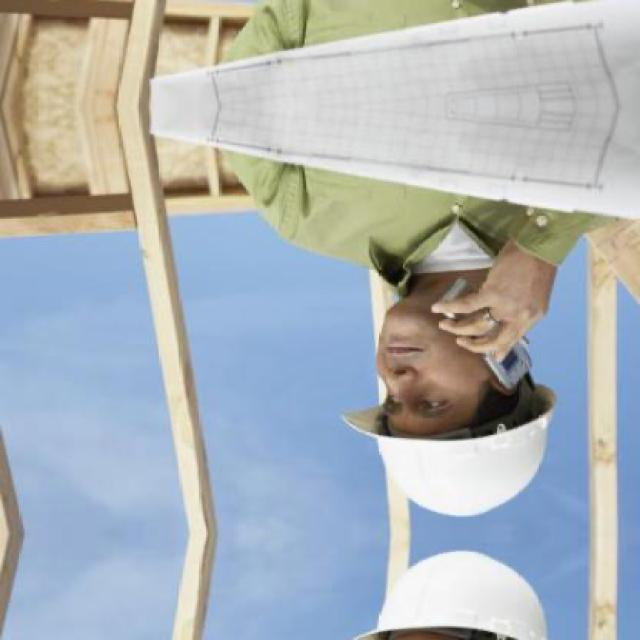con casco: (304, 234, 555, 506)
